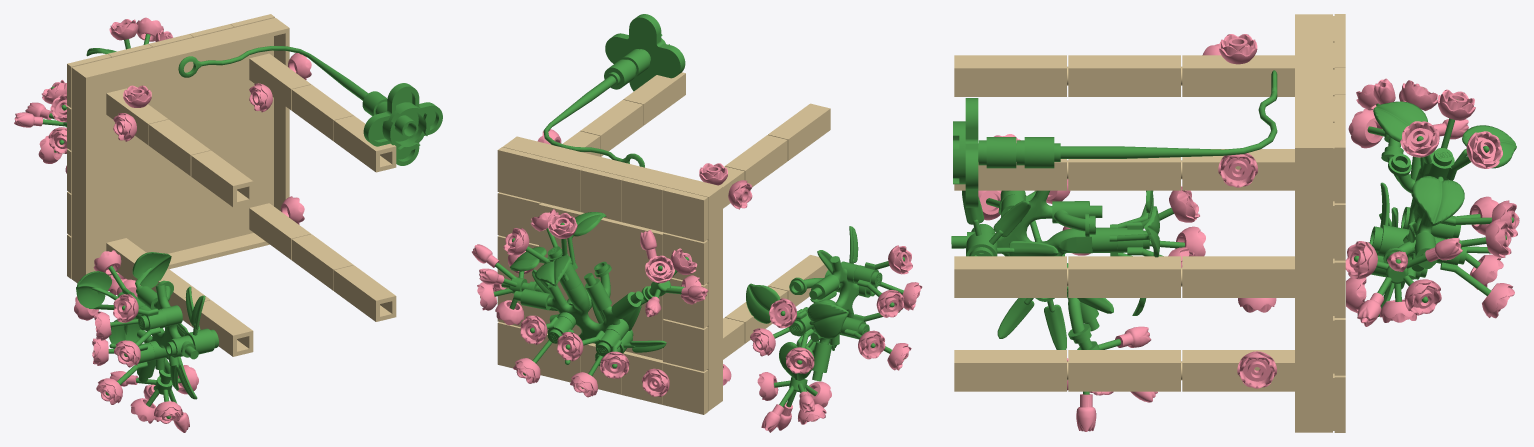
The model's file is Casita.dae.
3 renders of one model, left to right at view 1: azimuth 30°, elevation 25°; view 2: azimuth 150°, elevation 25°; view 3: azimuth 270°, elevation 25°, orthographic. The views are drawn at different scales.
Visible parts, largest first — view 1: Inner-Node-Casita_dot_io-12, Inner-Node-Casita_dot_io-93, Inner-Node-Casita_dot_io-34, Inner-Node-Casita_dot_io-6, Inner-Node-Casita_dot_io-3, Inner-Node-Casita_dot_io-31, Inner-Node-Casita_dot_io-9, Inner-Node-Casita_dot_io-8, Inner-Node-Casita_dot_io-4, Inner-Node-Casita_dot_io-11, Inner-Node-Casita_dot_io-0, Inner-Node-Casita_dot_io-5 (+29 smaller); view 2: Inner-Node-Casita_dot_io-29, Inner-Node-Casita_dot_io-12, Inner-Node-Casita_dot_io-93, Inner-Node-Casita_dot_io-34, Inner-Node-Casita_dot_io-58, Inner-Node-Casita_dot_io-23, Inner-Node-Casita_dot_io-55, Inner-Node-Casita_dot_io-27, Inner-Node-Casita_dot_io-26, Inner-Node-Casita_dot_io-21, Inner-Node-Casita_dot_io-20, Inner-Node-Casita_dot_io-28 (+59 smaller); view 3: Inner-Node-Casita_dot_io-12, Inner-Node-Casita_dot_io-0, Inner-Node-Casita_dot_io-3, Inner-Node-Casita_dot_io-5, Inner-Node-Casita_dot_io-6, Inner-Node-Casita_dot_io-8, Inner-Node-Casita_dot_io-2, Inner-Node-Casita_dot_io-1, Inner-Node-Casita_dot_io-7, Inner-Node-Casita_dot_io-58, Inner-Node-Casita_dot_io-11, Inner-Node-Casita_dot_io-4 (+50 smaller).
Part boxes in pixels (x1=…): Inner-Node-Casita_dot_io-12: x1=71, y1=18, x2=289, y2=283; Inner-Node-Casita_dot_io-93: x1=363, y1=83, x2=442, y2=165; Inner-Node-Casita_dot_io-34: x1=76, y1=252, x2=171, y2=343; Inner-Node-Casita_dot_io-6: x1=191, y1=150, x2=253, y2=207; Inner-Node-Casita_dot_io-3: x1=334, y1=265, x2=396, y2=321; Inner-Node-Casita_dot_io-31: x1=135, y1=284, x2=198, y2=370; Inner-Node-Casita_dot_io-9: x1=334, y1=115, x2=396, y2=172; Inner-Node-Casita_dot_io-8: x1=148, y1=119, x2=210, y2=176; Inner-Node-Casita_dot_io-4: x1=249, y1=203, x2=310, y2=259; Inner-Node-Casita_dot_io-11: x1=291, y1=84, x2=353, y2=141; Inner-Node-Casita_dot_io-0: x1=191, y1=300, x2=253, y2=356; Inner-Node-Casita_dot_io-5: x1=291, y1=234, x2=353, y2=290; Inner-Node-Casita_dot_io-29: x1=539, y1=202, x2=663, y2=360; Inner-Node-Casita_dot_io-12: x1=503, y1=136, x2=722, y2=411; Inner-Node-Casita_dot_io-93: x1=605, y1=14, x2=685, y2=91; Inner-Node-Casita_dot_io-34: x1=746, y1=283, x2=848, y2=380; Inner-Node-Casita_dot_io-58: x1=510, y1=212, x2=606, y2=290; Inner-Node-Casita_dot_io-23: x1=663, y1=187, x2=708, y2=241; Inner-Node-Casita_dot_io-55: x1=547, y1=281, x2=628, y2=365; Inner-Node-Casita_dot_io-27: x1=663, y1=319, x2=708, y2=371; Inner-Node-Casita_dot_io-26: x1=621, y1=177, x2=666, y2=231; Inner-Node-Casita_dot_io-21: x1=497, y1=147, x2=542, y2=201; Inner-Node-Casita_dot_io-20: x1=539, y1=157, x2=583, y2=211; Inner-Node-Casita_dot_io-28: x1=663, y1=362, x2=708, y2=414; Inner-Node-Casita_dot_io-12: x1=1295, y1=14, x2=1332, y2=432; Inner-Node-Casita_dot_io-0: x1=954, y1=256, x2=1068, y2=297; Inner-Node-Casita_dot_io-3: x1=954, y1=350, x2=1068, y2=391; Inner-Node-Casita_dot_io-5: x1=1068, y1=350, x2=1182, y2=391; Inner-Node-Casita_dot_io-6: x1=954, y1=55, x2=1068, y2=96; Inner-Node-Casita_dot_io-8: x1=1068, y1=55, x2=1182, y2=96; Inner-Node-Casita_dot_io-2: x1=1068, y1=256, x2=1182, y2=297; Inner-Node-Casita_dot_io-1: x1=1182, y1=256, x2=1294, y2=297; Inner-Node-Casita_dot_io-7: x1=1182, y1=55, x2=1294, y2=96; Inner-Node-Casita_dot_io-58: x1=1373, y1=101, x2=1516, y2=225; Inner-Node-Casita_dot_io-11: x1=1068, y1=157, x2=1182, y2=190; Inner-Node-Casita_dot_io-4: x1=1182, y1=350, x2=1294, y2=391.
Size of the model in its own units: 313 by 312 by 359.
